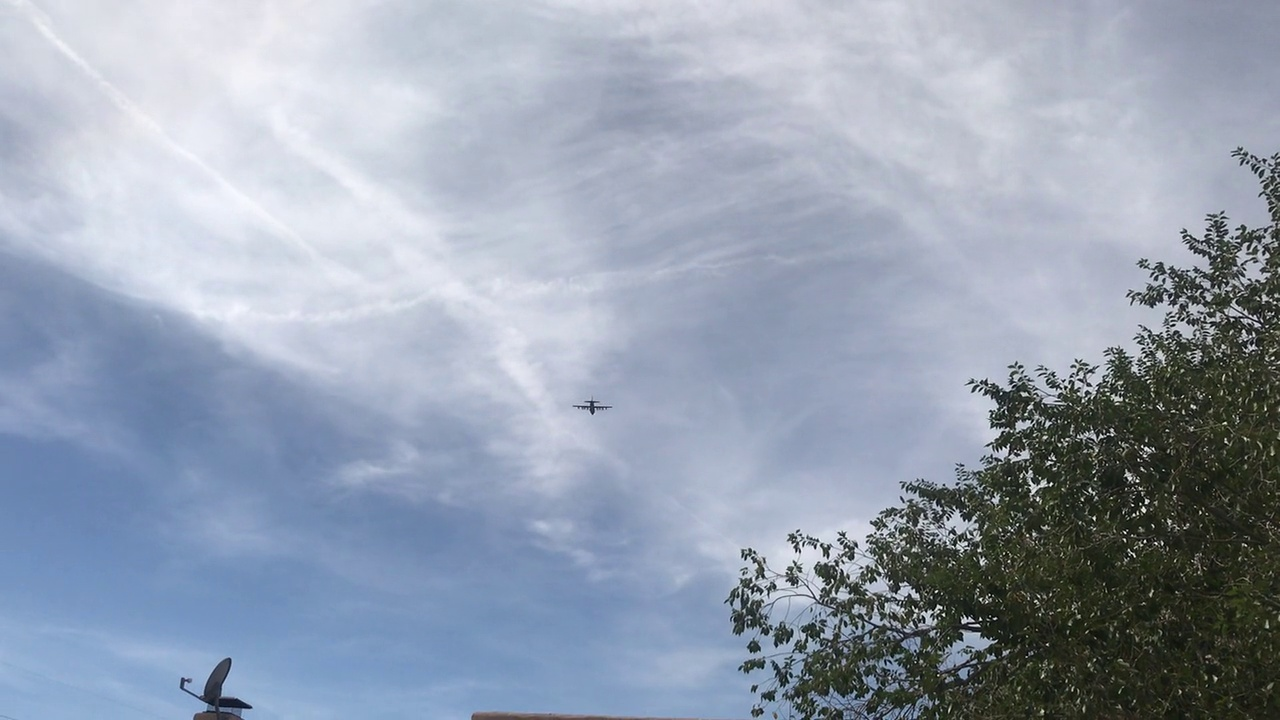plane: (573, 394, 612, 415)
